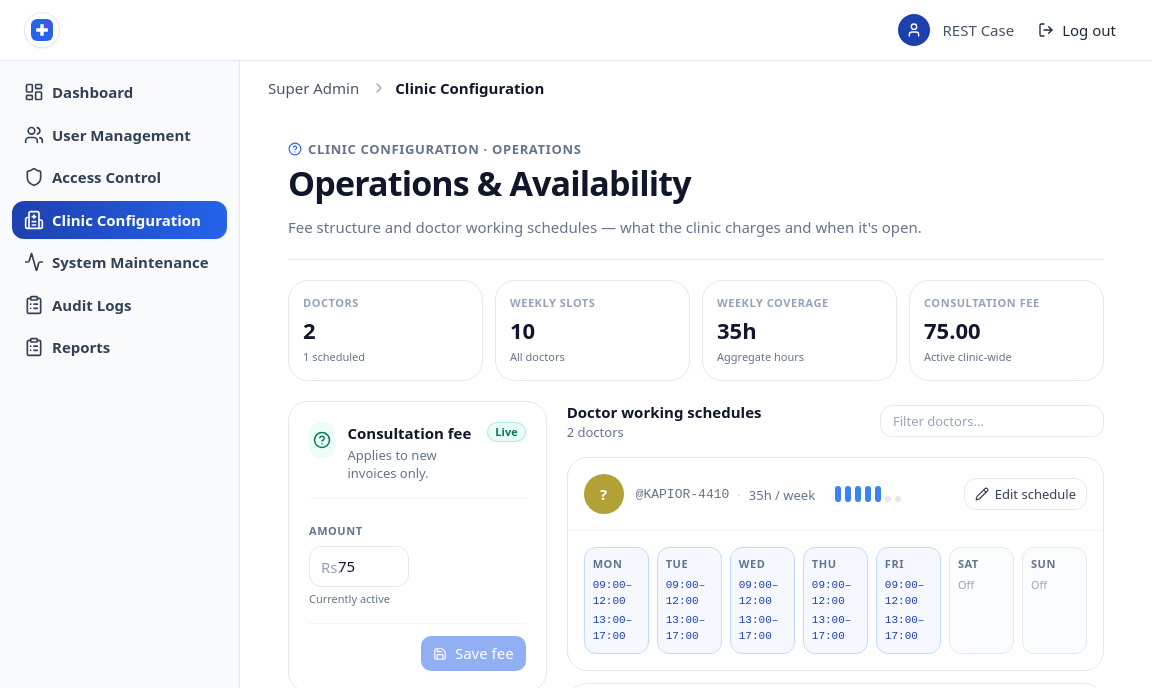
it: super-admin clinic configuration — REST cases › saves a weekly schedule through PUT /doctors/{id}/schedule
Expected: the text "@KAPIOR-4410" is shown, [636,486,729,504]
Click the button "Edit schedule" next to "35h / week" at (1025, 494), box [964,478,1087,510]
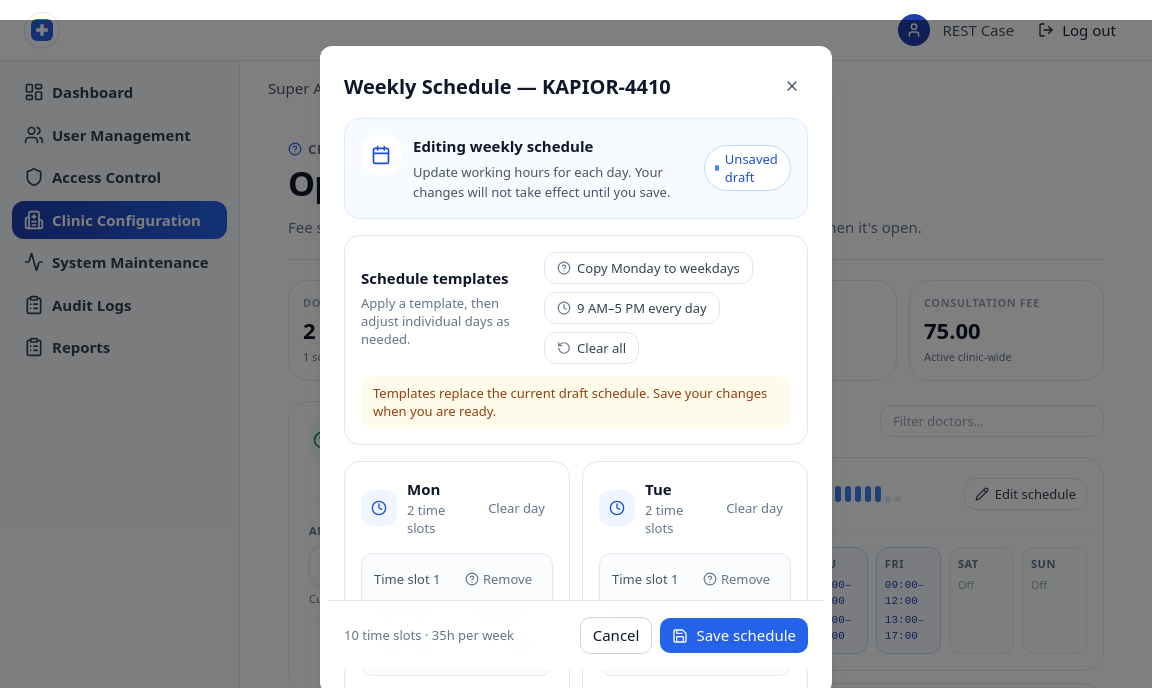
Click the button "9 AM–5 PM every day" at (632, 308), box [544,292,720,324]
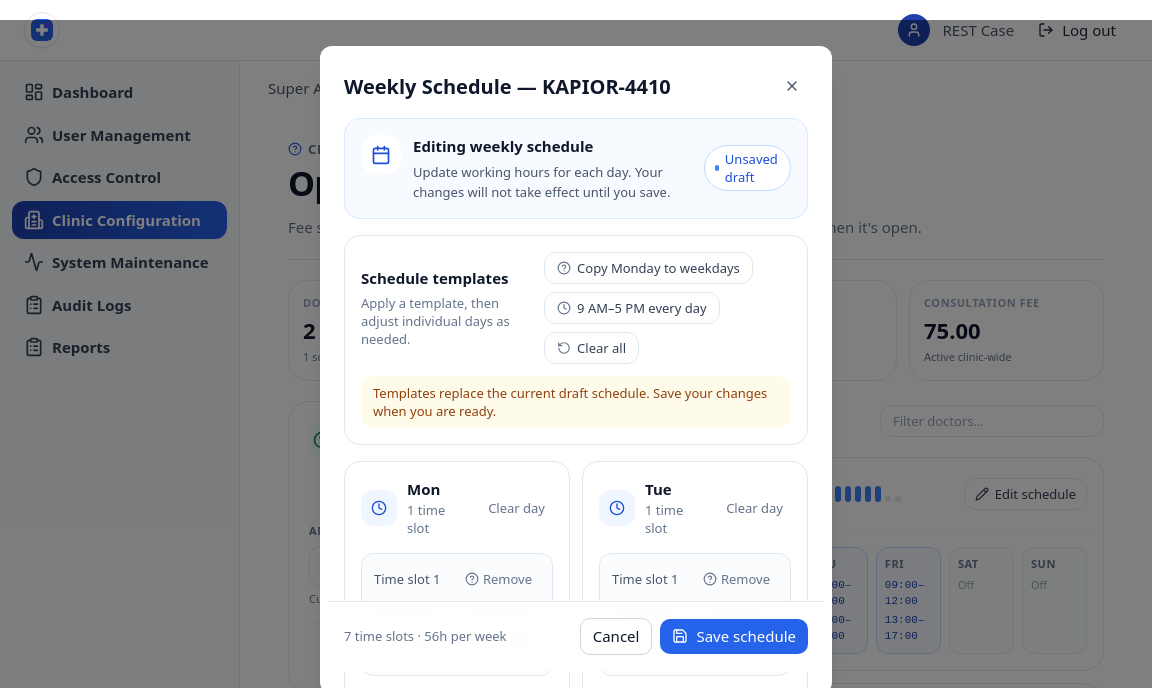
Click the button "Save schedule" at (734, 636), box [660,618,808,653]
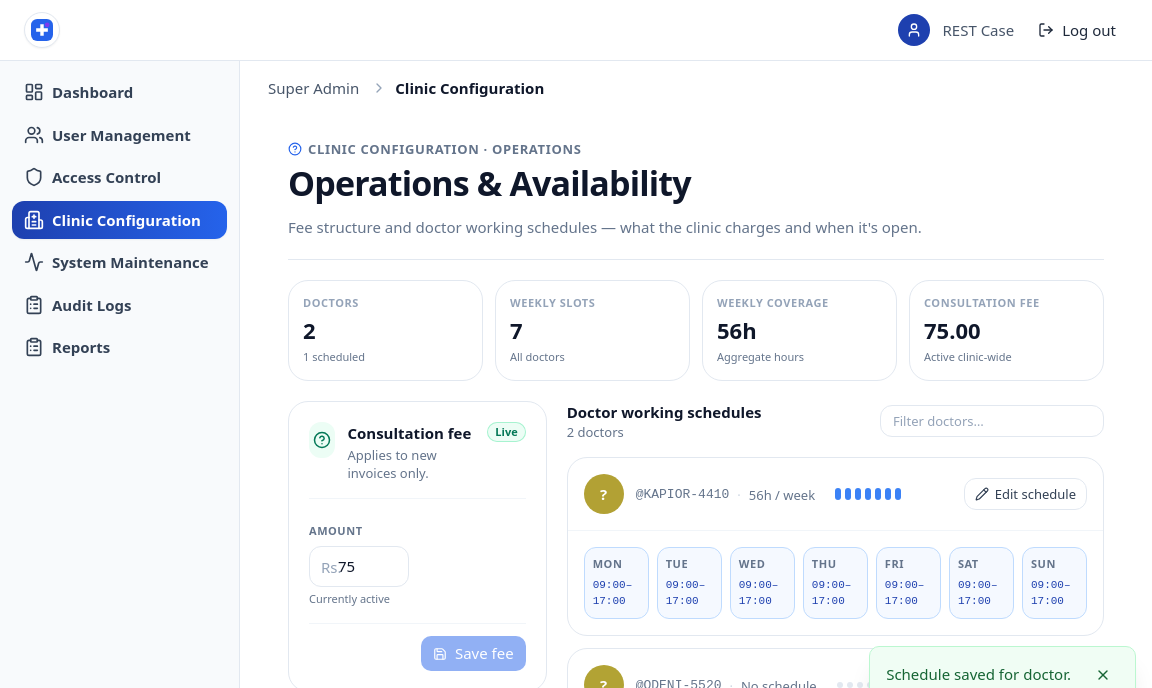
Result: the text "Schedule saved for doctor." is shown at [886,663,1071,686]
Result: the text "56h / week" is shown at [749,486,815,504]
